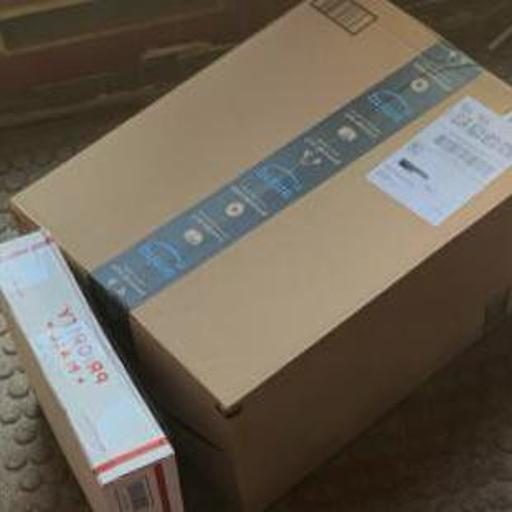Amazon: (73, 16, 491, 397)
Other: (0, 235, 184, 512)
